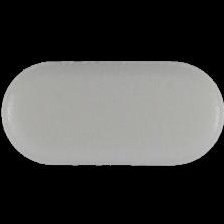61919-965: (0, 0, 224, 224)
